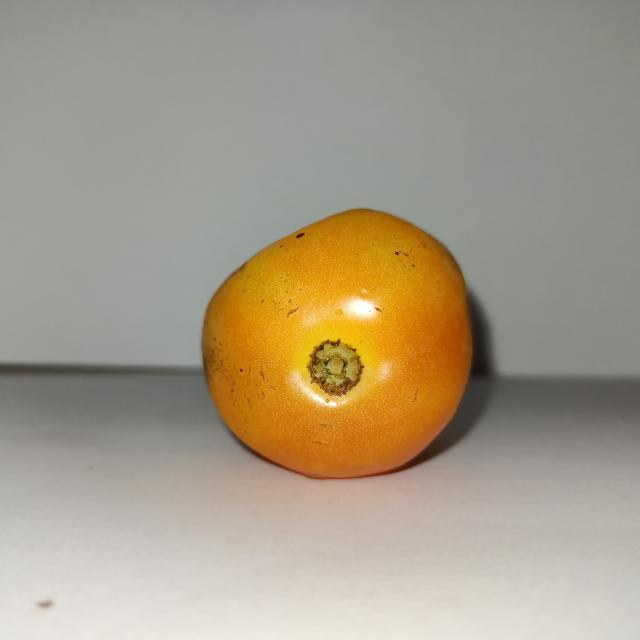Red: (200, 206, 474, 480)
